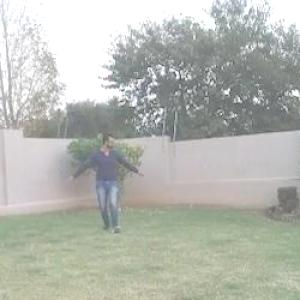land: (56, 105, 146, 248)
